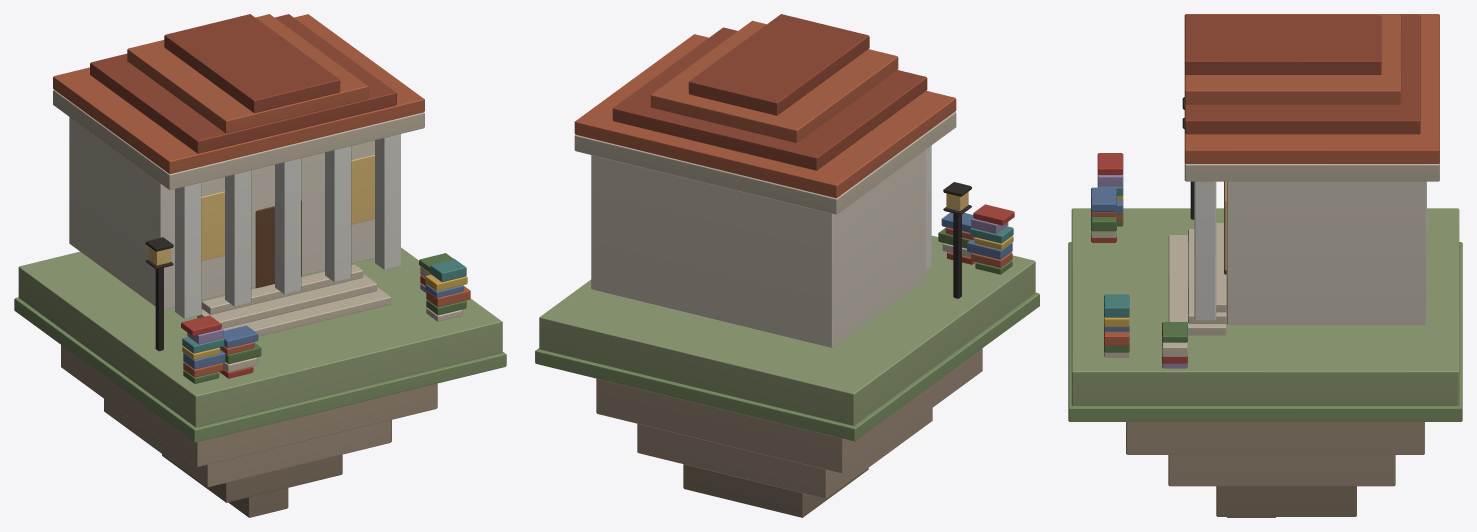
File: region_03.glb
3 renders of one model, left to right at view 1: azimuth 30°, elevation 25°; view 2: azimuth 150°, elevation 25°; view 3: azimuth 270°, elevation 25°, orthographic. The views are drawn at different scales.
Visible parts, largest first — view 1: region_03_static, region_03_glow; view 2: region_03_static; view 3: region_03_static.
Part boxes in pixels (left/top/right/bottom): region_03_static: left=14, top=14, right=506, bottom=517; region_03_glow: left=149, top=154, right=374, bottom=265; region_03_static: left=535, top=14, right=1039, bottom=517; region_03_static: left=1068, top=14, right=1462, bottom=517.
Bounding box in the file's own units: 6.12 × 8.12 × 6.1.
